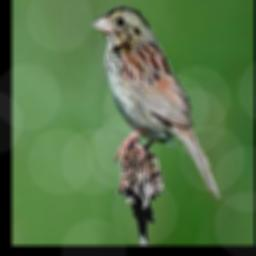Sparrow: (90, 5, 220, 199)
